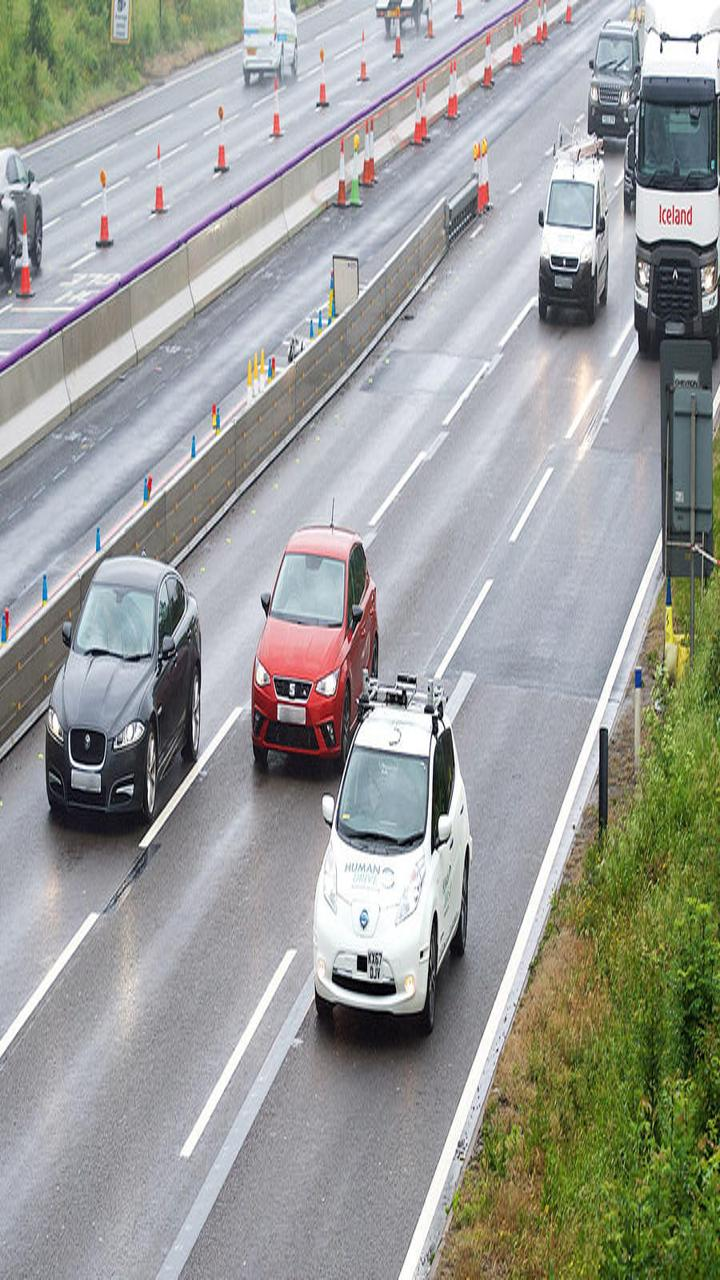vehicle: (292, 677, 476, 1038), (40, 557, 208, 821), (243, 515, 398, 762), (458, 111, 613, 358), (628, 1, 720, 361), (1, 89, 63, 305), (227, 1, 338, 111)
